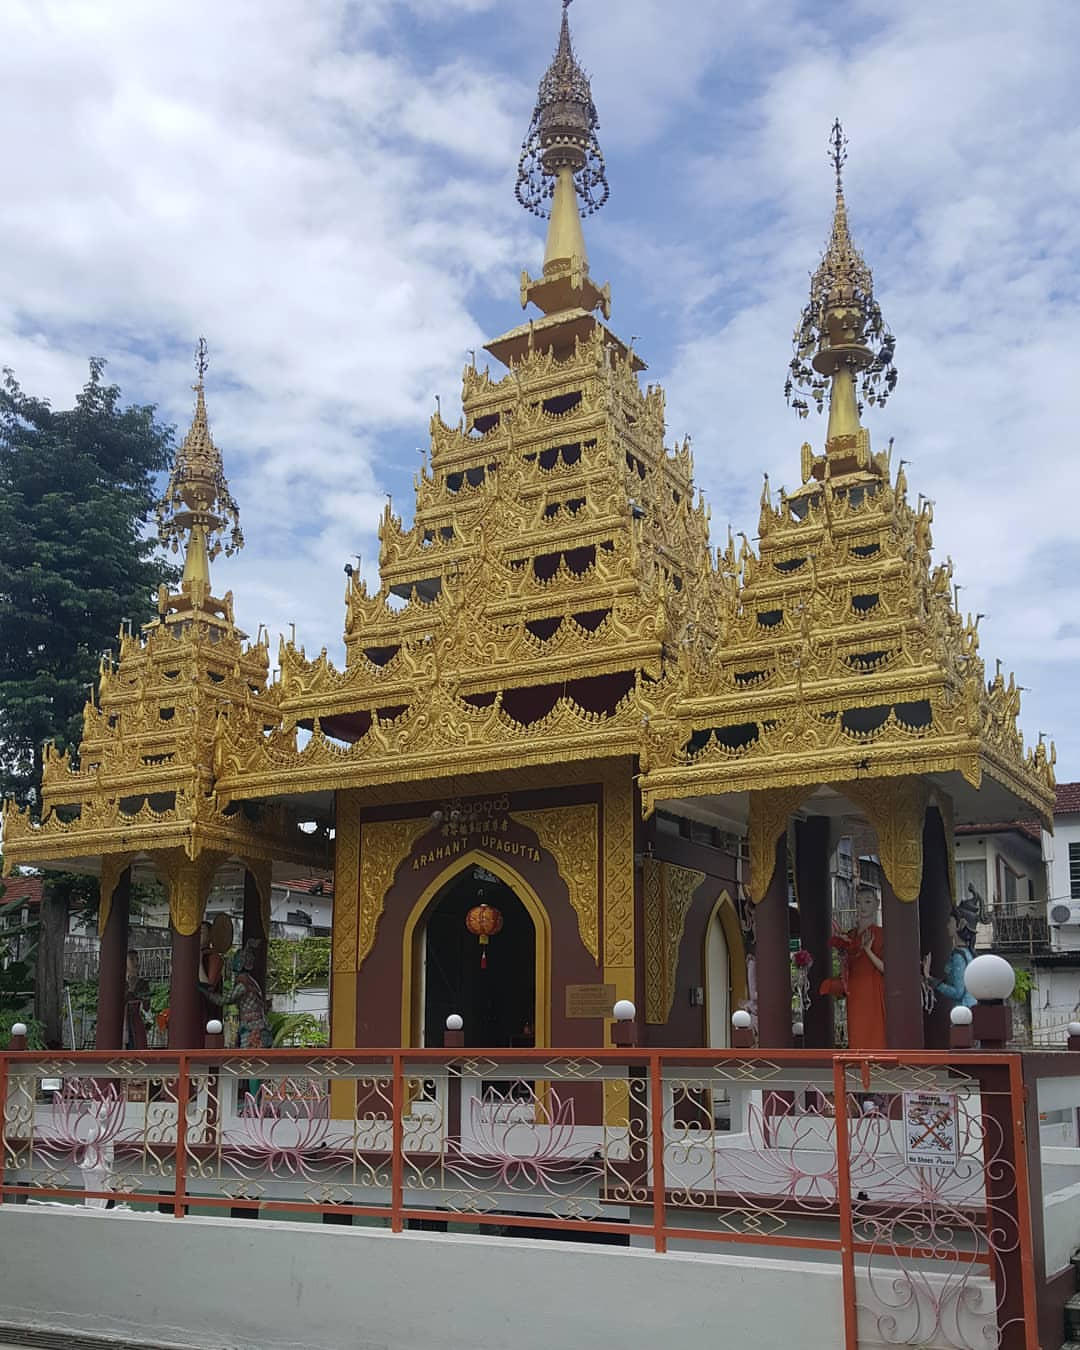Buddhist Temple: (52, 208, 1019, 1050)
